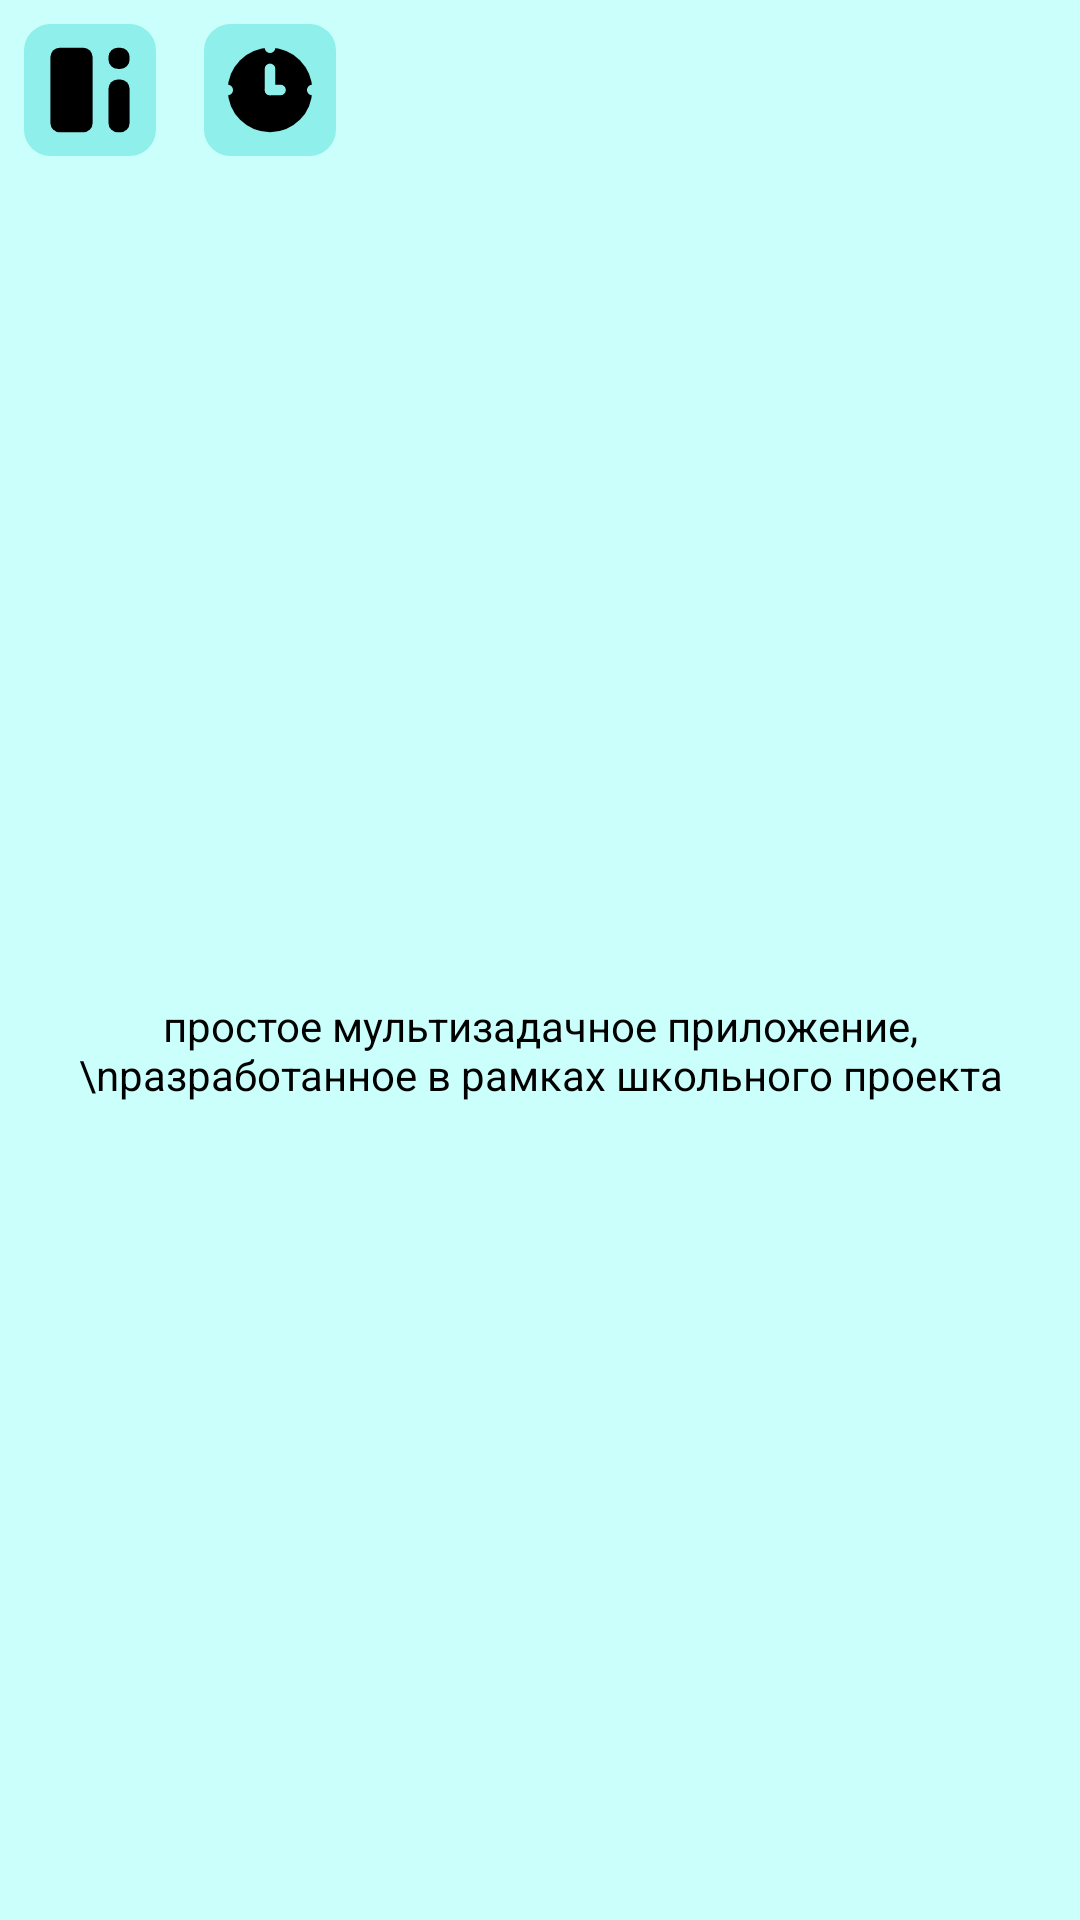

Icon bounding boxes for this 1080 x 1920 phone screenshot, format [x1,y1,x2,y2]:
timer: [204,24,336,156]
